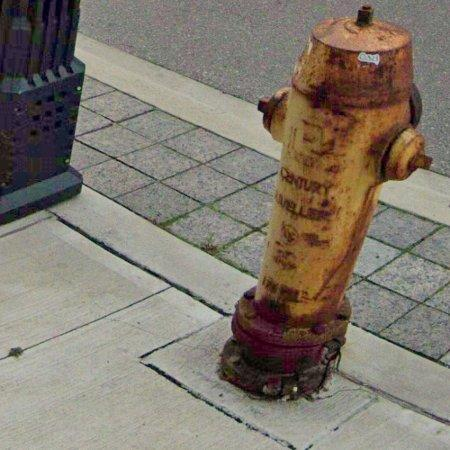a fire hydrant: (221, 7, 432, 400)
